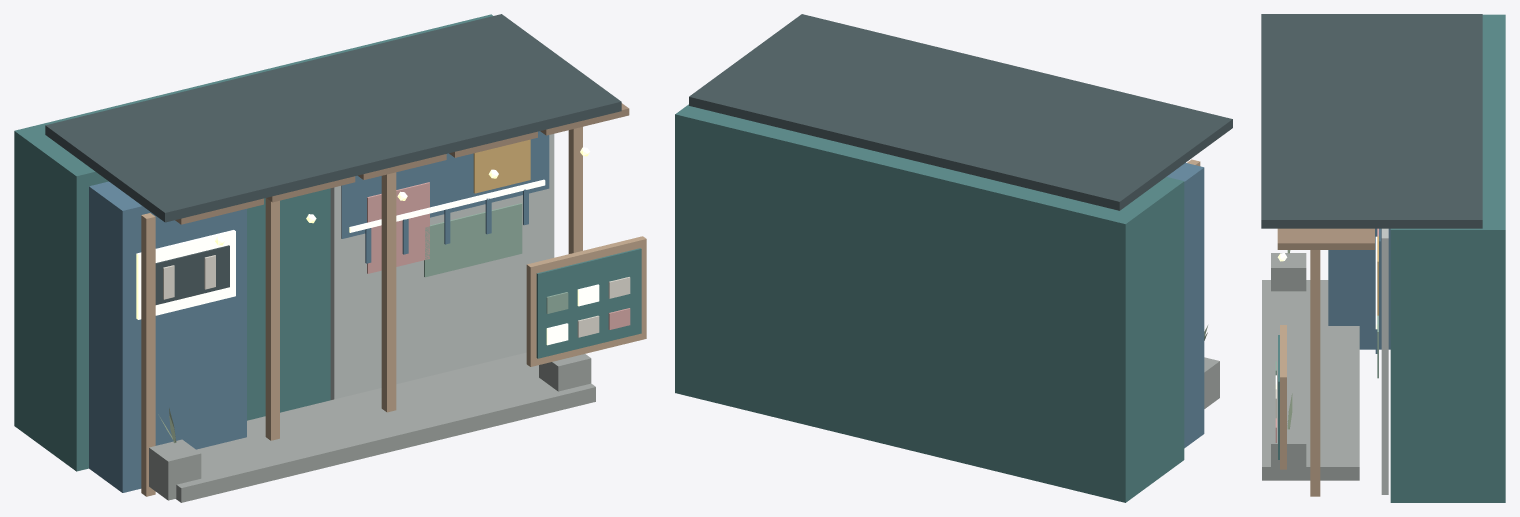
File: yaba_creative_hub_frontage.glb
3 views of the same model, side by side, from view 1: azimuth 30°, elevation 25°; view 2: azimuth 150°, elevation 25°; view 3: azimuth 270°, elevation 25° (orthographic). The views are drawn at different scales.
Visible parts, largest first — view 1: hub_roof, hub_back_shell, hub_container_left, hub_mural_wall, hub_steps, hub_board_panel, mural_sky, mural_green_block, hub_column_-5.0, hub_column_0.8, hub_board_frame, hub_column_-2.0 (+8 smaller); view 2: hub_back_shell, hub_roof, hub_container_left, hub_planter_-4.7; view 3: hub_roof, hub_back_shell, hub_steps, hub_container_left, hub_column_5.3, hub_pergola_beam_5.1, hub_mural_wall, hub_planter_4.7, hub_planter_-4.7, hub_board_frame.
Part boxes in pixels (x1,y1,x2,y2): hub_roof: (45,14,621,222); hub_back_shell: (14,14,492,471); hub_container_left: (89,181,246,492); hub_mural_wall: (330,134,554,399); hub_steps: (176,352,595,502); hub_board_panel: (536,248,641,358); mural_sky: (341,131,549,238); mural_green_block: (424,203,522,277); hub_column_-5.0: (141,213,155,496); hub_column_0.8: (381,172,396,412); hub_board_frame: (526,236,646,366); hub_column_-2.0: (265,198,279,440); hub_back_shell: (675,104,1184,502); hub_roof: (689,14,1232,210); hub_container_left: (1166,162,1204,448); hub_planter_-4.7: (1204,357,1219,408); hub_roof: (1261,14,1482,228); hub_back_shell: (1390,14,1505,502); hub_steps: (1262,280,1359,480); hub_container_left: (1328,228,1390,349); hub_column_5.3: (1310,250,1320,496); hub_pergola_beam_5.1: (1277,228,1374,249); hub_mural_wall: (1381,228,1388,494); hub_planter_4.7: (1271,429,1306,479); hub_planter_-4.7: (1271,253,1306,291); hub_board_frame: (1280,325,1286,469).
Size of what is drawn, in the model's own units: 12.3 by 7.03 by 5.52.
